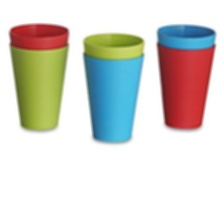glass: (76, 30, 152, 145), (2, 14, 73, 134), (152, 21, 219, 131)
